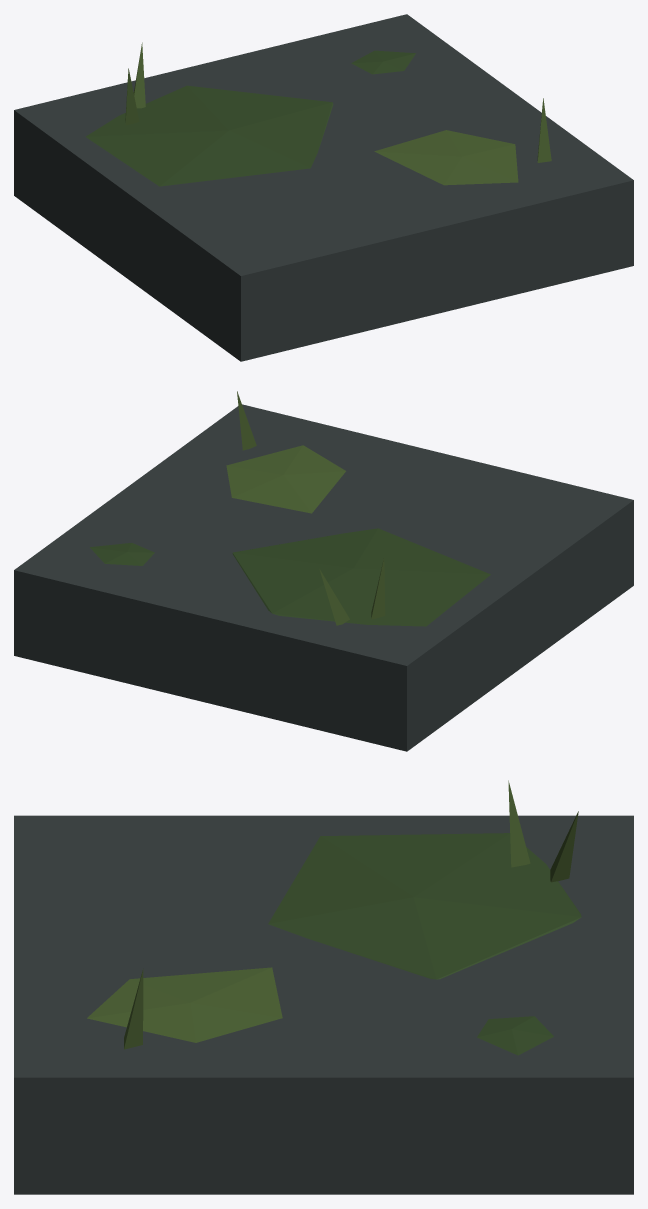
The model's file is tile_moss.glb.
3 views of the same model, one above another, from view 1: azimuth 30°, elevation 25°; view 2: azimuth 150°, elevation 25°; view 3: azimuth 270°, elevation 25° (orthographic). The views are drawn at different scales.
Parts seen in each view (by area): view 1: tile_moss; view 2: tile_moss; view 3: tile_moss.
Part boxes in pixels (x1,y1,x2,y2): tile_moss: (14,14,633,361); tile_moss: (14,391,633,751); tile_moss: (14,780,633,1194).
Size of the model in its own units: 0.96 by 0.3387 by 0.96.
